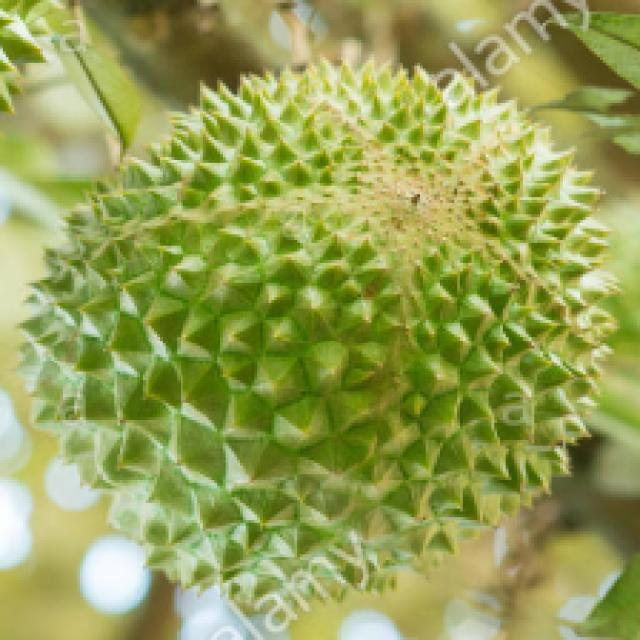d197: (19, 46, 606, 602)
